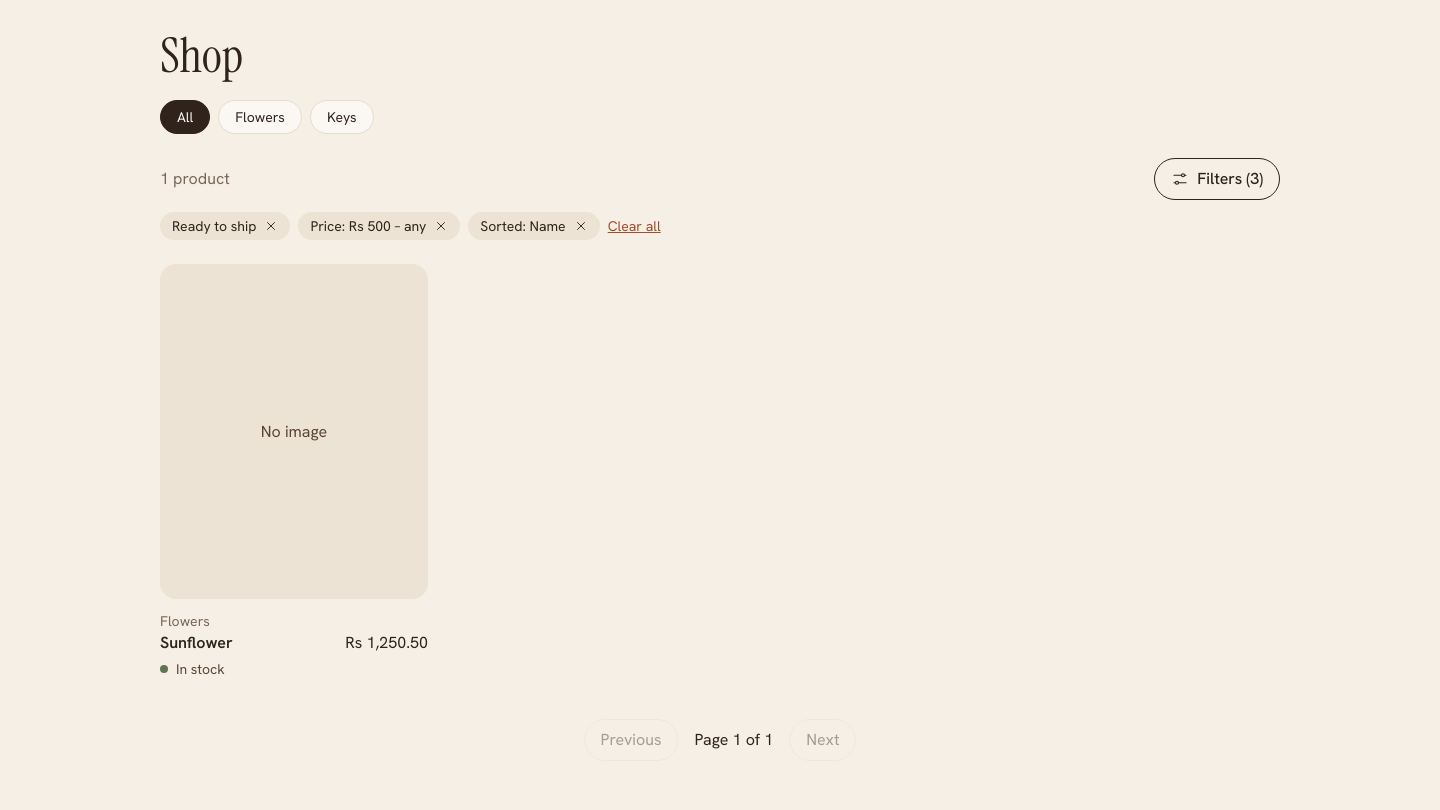
Test: pre-fills the drawer from the URL
Check: the heading "Sunflower" is shown, box [160, 631, 233, 655]
Click the button "Filters (3)": coordinates (1217, 179) [1154, 158, 1280, 200]
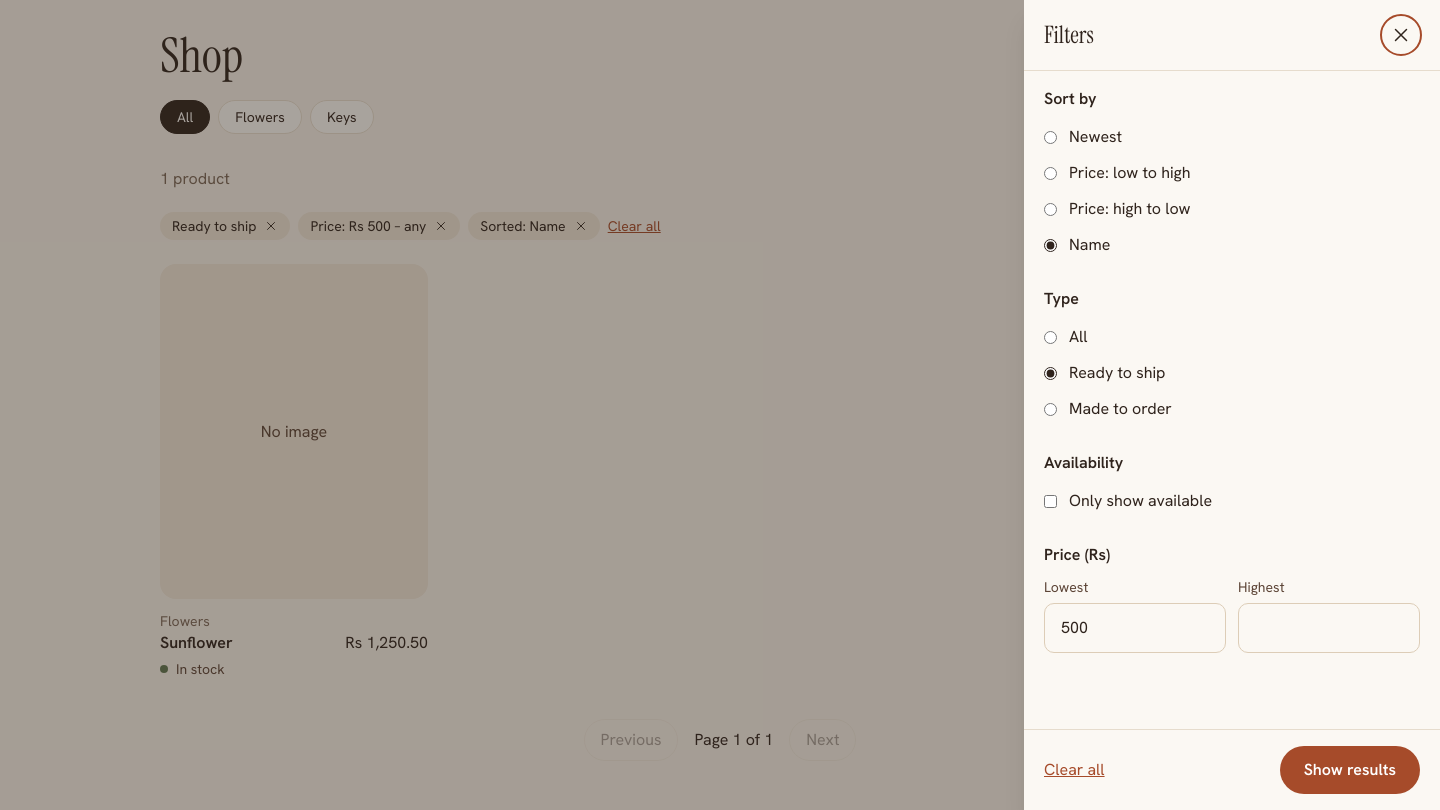
Check: the radio button labelled "Name" is checked, box [1044, 238, 1057, 252]
Check: the radio button labelled "Ready to ship" is checked, box [1044, 366, 1057, 380]
Check: the field labelled "Lowest" holds "500", box [1044, 603, 1226, 653]
